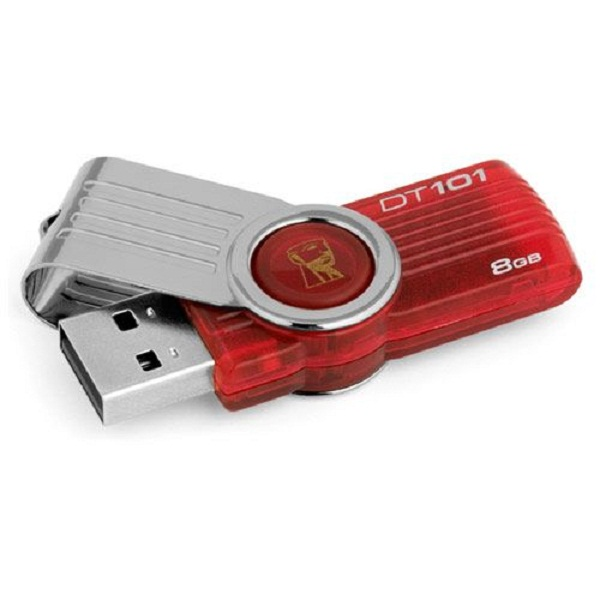Kingston: (272, 234, 355, 295)
